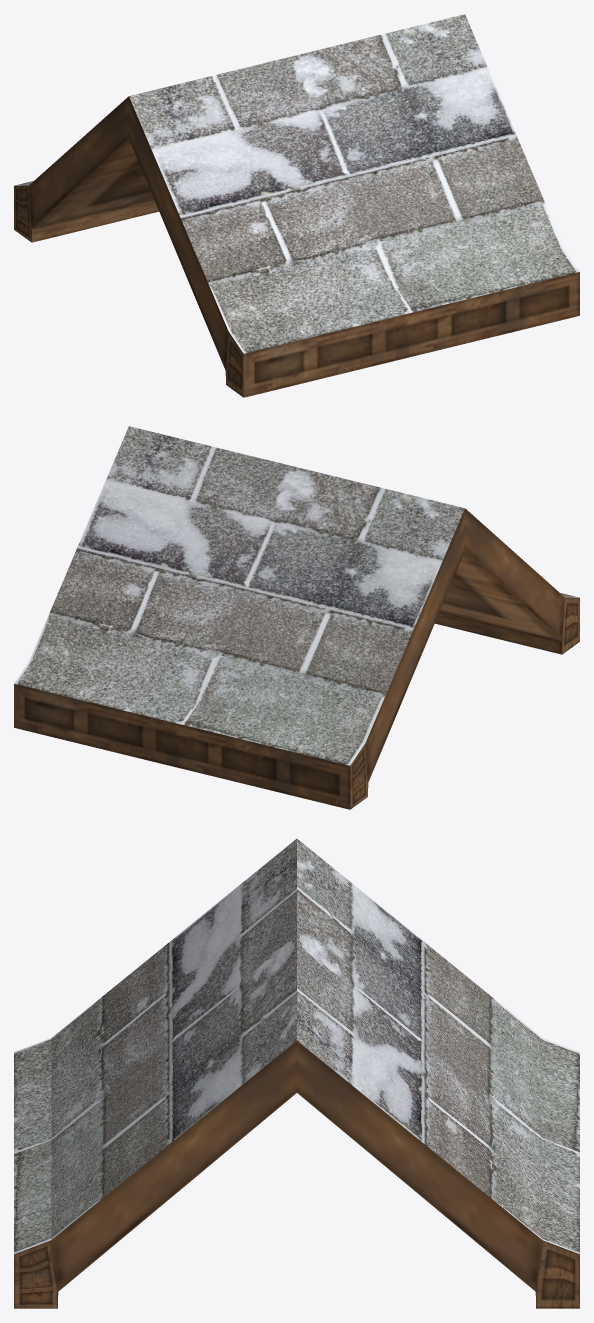
Rendered from Roof_Top_3x3.fbx.
3 renders of one model, top to bottom at view 1: azimuth 30°, elevation 25°; view 2: azimuth 150°, elevation 25°; view 3: azimuth 270°, elevation 25°, orthographic. The views are drawn at different scales.
Visible parts, largest first — view 1: Roof_Top_3x3; view 2: Roof_Top_3x3; view 3: Roof_Top_3x3.
Boxes of the visible parts, x1,y1,x2,y2 form: Roof_Top_3x3: (14, 14, 579, 397); Roof_Top_3x3: (14, 426, 579, 809); Roof_Top_3x3: (14, 839, 579, 1308).
Bounding box in the file's own units: 300 × 185 × 355.
